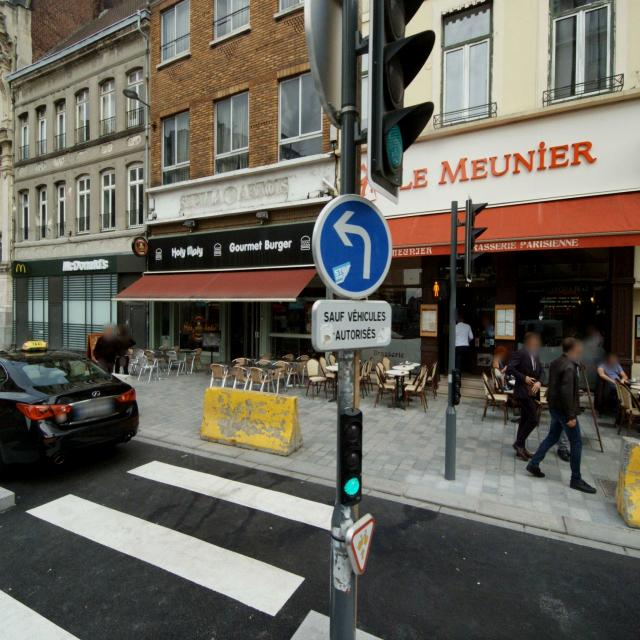car: (0, 346, 140, 479)
